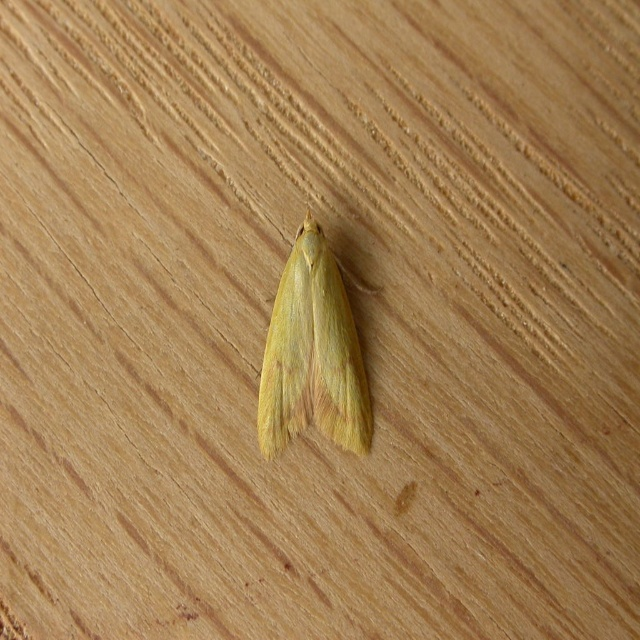Moths and butterflies: (256, 211, 384, 466)
